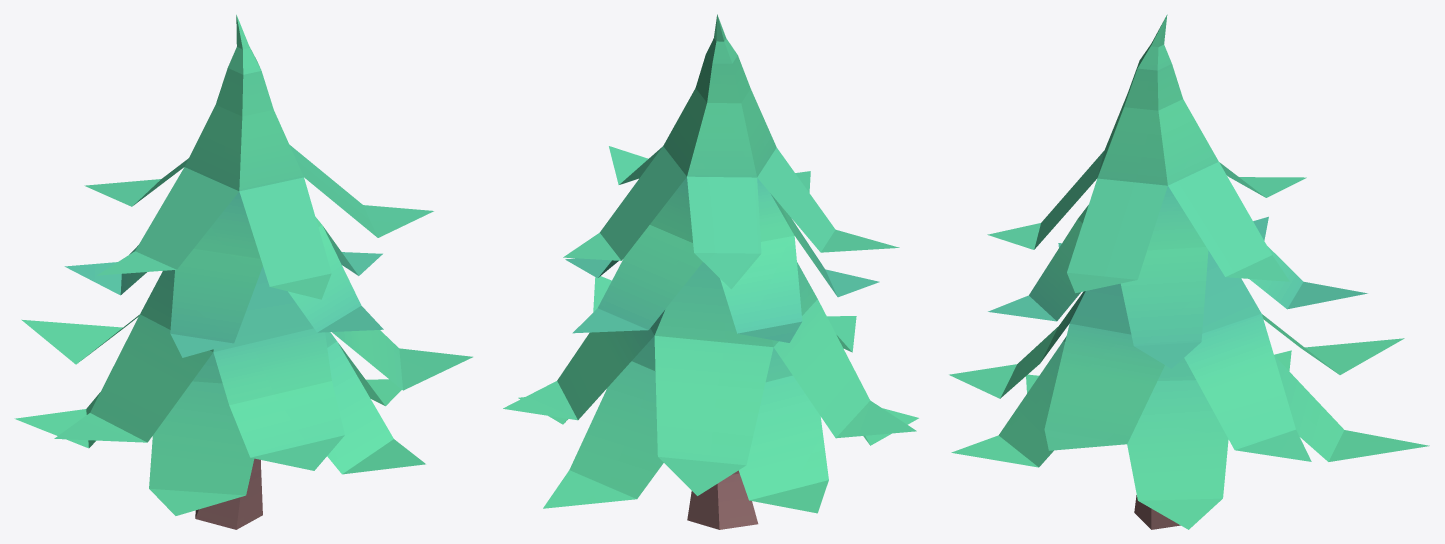
File: smallpruce.obj
The picture shows the model from 3 angles, left to right: view 1: azimuth 30°, elevation 25°; view 2: azimuth 150°, elevation 25°; view 3: azimuth 270°, elevation 25°; orthographic projection.
Parts seen in each view (by area): view 1: small_pruce; view 2: small_pruce; view 3: small_pruce.
Part boxes in pixels (x1,y1,x2,y2): small_pruce: (14, 14, 472, 529); small_pruce: (503, 14, 918, 529); small_pruce: (949, 14, 1429, 529).
Size of the model in its own units: 8.76 by 11.09 by 9.57.
1 material, 1 textured.
